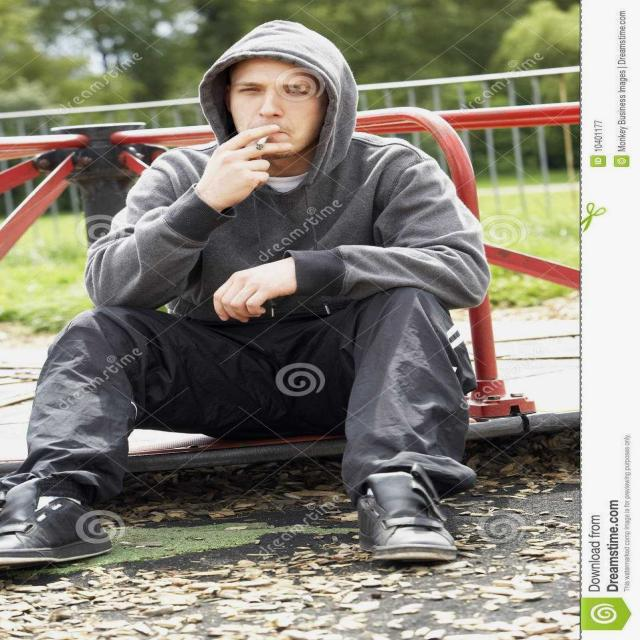Smooking: (250, 134, 271, 158)
